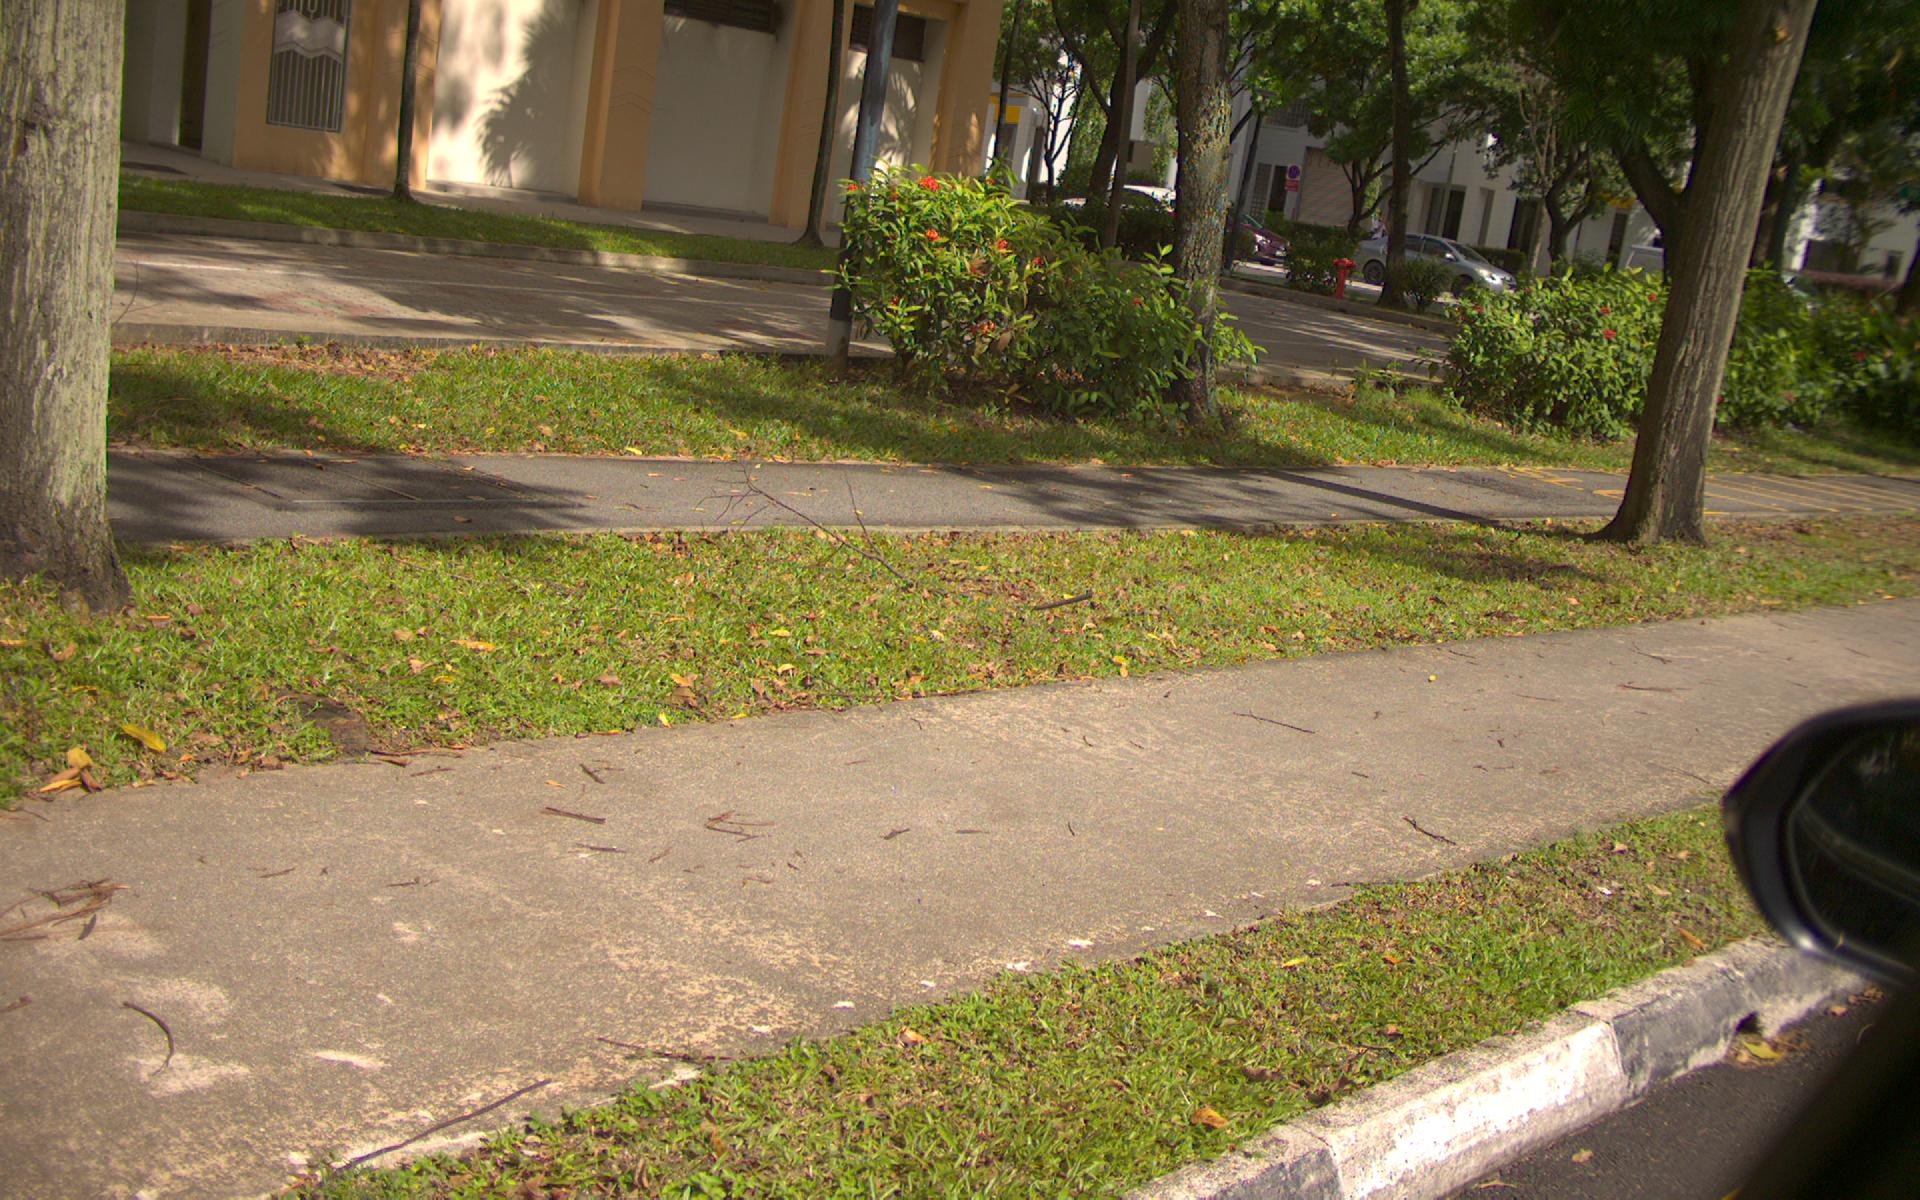pathway_low: (6, 792, 688, 1084), (117, 462, 1919, 521)
road_turf_low: (130, 538, 1632, 614), (126, 347, 1174, 453)
